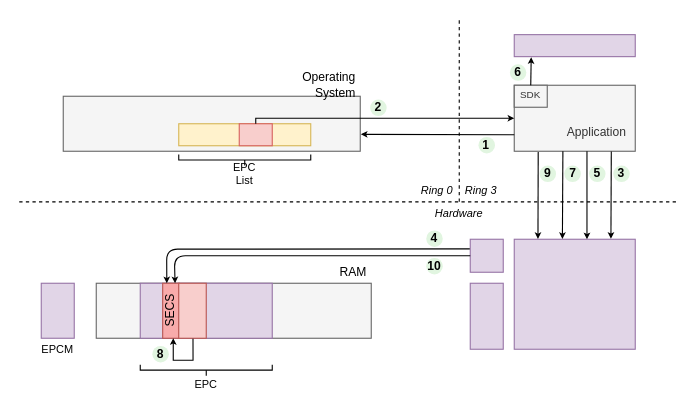
The diagram is 700 pixels wide and 415 high, and some of its shapes have lost their labels. Here are the shapes that lost their labels. From the top down, the box of each, then its label:
(513, 34, 635, 57): Enclave
(469, 238, 503, 272): MEE
(513, 238, 635, 349): CPU
(469, 282, 503, 349): MMU
